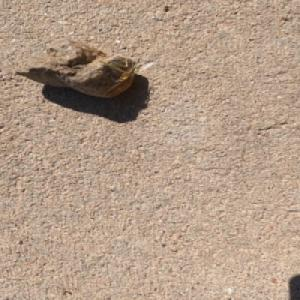Rock: (12, 37, 138, 98)
